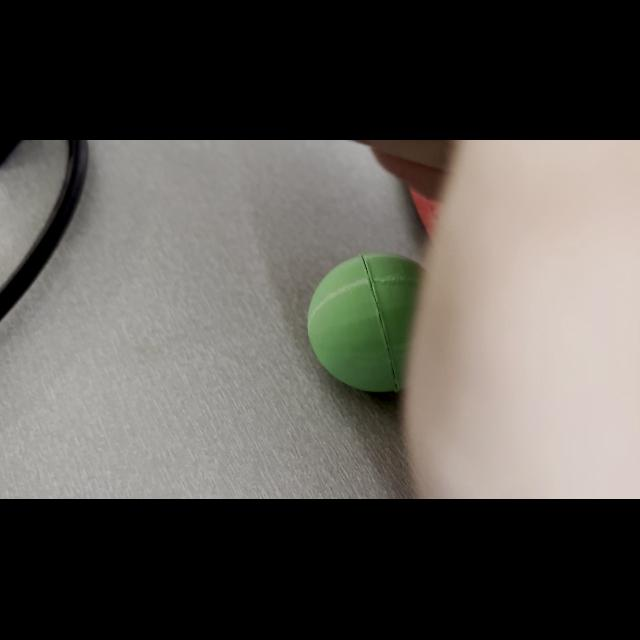objects: (301, 242, 431, 398)
